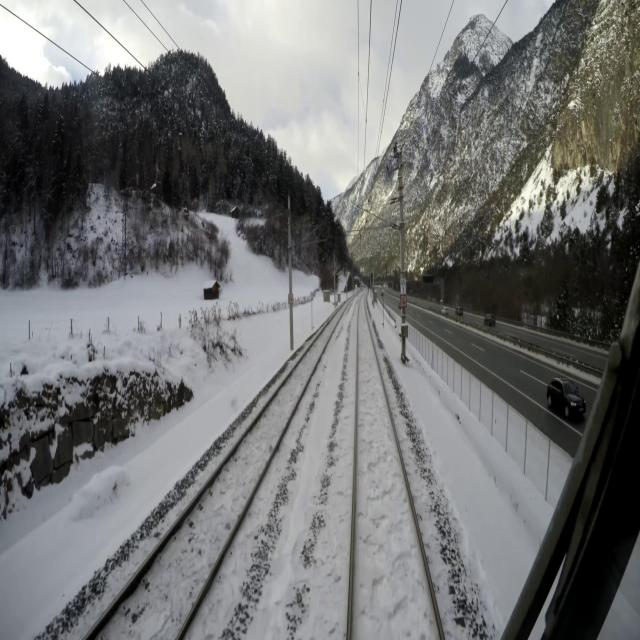rail-track: (88, 302, 347, 639), (348, 291, 439, 639)
